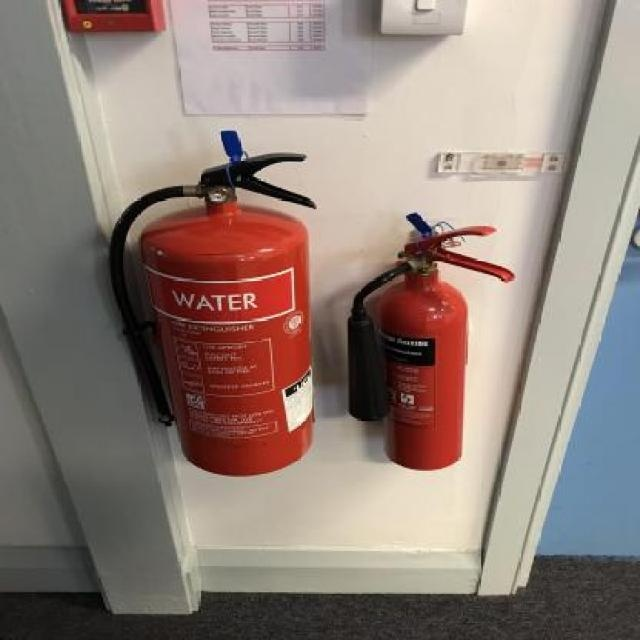fire extinguisher: (110, 133, 315, 475), (347, 213, 515, 472)
